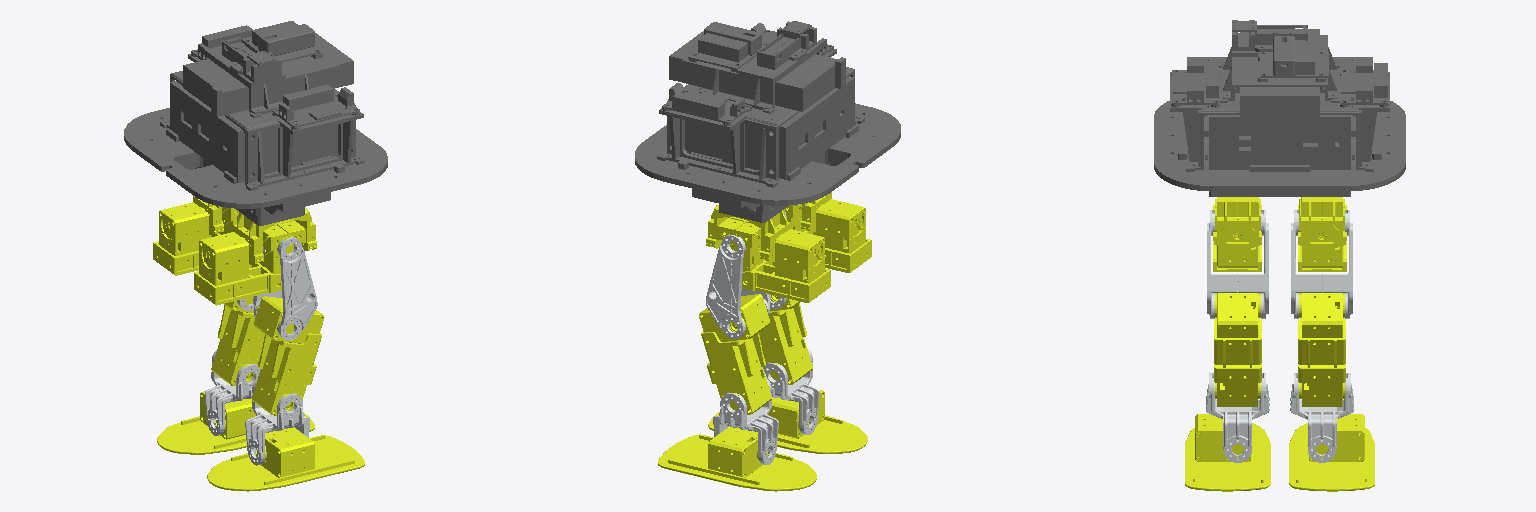
robot.urdf — exhx5_w_b_16:
<?xml version="1.0" encoding="utf-8"?>
<!-- This URDF was automatically created by SolidWorks to URDF Exporter! Originally created by [author] ([email redacted]) 
     Commit Version: 1.5.1-0-g916b5db  Build Version: 1.5.7152.31018
     For more information, please see http://wiki.ros.org/sw_urdf_exporter -->
<robot
  name="exhx5_w_b_16">
  <link
    name="body_link">
    <inertial>
      <origin
        xyz="0.00043545 0.00025536 0.10071"
        rpy="0 0 0" />
      <mass
        value="1.8238" />
      <inertia
        ixx="0.0025905"
        ixy="-5.6852E-06"
        ixz="-1.3106E-05"
        iyy="0.0024595"
        iyz="-1.261E-06"
        izz="0.0046407" />
    </inertial>
    <visual>
      <origin
        xyz="0 0 0"
        rpy="0 0 0" />
      <geometry>
        <mesh
          filename="../meshes/body_link.STL" />
      </geometry>
      <material
        name="">
        <color
          rgba="0.49804 0.49804 0.49804 1" />
      </material>
    </visual>
    <collision>
      <origin
        xyz="0 0 0"
        rpy="0 0 0" />
      <geometry>
        <mesh
          filename="../meshes/body_link.STL" />
      </geometry>
    </collision>
  </link>

  <link
    name="imu_link">
    <inertial>
      <origin
        xyz="-0.008387 1.336E-17 -0.0069463"
        rpy="0 0 0" />
      <mass
        value="0.0062931" />
      <inertia
        ixx="3.2242E-07"
        ixy="3.3527E-22"
        ixz="-6.9193E-08"
        iyy="9.2229E-07"
        iyz="-8.0392E-22"
        izz="1.1018E-06" />
    </inertial>
    <visual>
      <origin
        xyz="0 0 0"
        rpy="0 0 0" />
      <geometry>
        <mesh
          filename="../meshes/imu_link.STL" />
      </geometry>
      <material
        name="">
        <color
          rgba="0.79216 0.81961 0.93333 1" />
      </material>
    </visual>
    <collision>
      <origin
        xyz="0 0 0"
        rpy="0 0 0" />
      <geometry>
        <mesh
          filename="../meshes/imu_link.STL" />
      </geometry>
    </collision>
  </link>
  <joint
    name="imu"
    type="fixed">
    <origin
      xyz="0 0 0.0492"
      rpy="0 0 0" />
    <parent
      link="body_link" />
    <child
      link="imu_link" />
    <axis
      xyz="0 0 0" />
    <limit
      lower="-3.14"
      upper="3.14"
      effort="4"
      velocity="4" />
  </joint>
  <link
    name="l_hip_g_link">
    <inertial>
      <origin
        xyz="-0.0043797 -8.6604E-08 0.011813"
        rpy="0 0 0" />
      <mass
        value="0.061008" />
      <inertia
        ixx="1.167E-05"
        ixy="7.1767E-11"
        ixz="9.1442E-09"
        iyy="2.2342E-05"
        iyz="2.5177E-11"
        izz="2.4892E-05" />
    </inertial>
    <visual>
      <origin
        xyz="0 0 0"
        rpy="0 0 0" />
      <geometry>
        <mesh
          filename="../meshes/l_hip_g_link.STL" />
      </geometry>
      <material
        name="">
        <color
          rgba="0.9451 1 0.18431 1" />
      </material>
    </visual>
    <collision>
      <origin
        xyz="0 0 0"
        rpy="0 0 0" />
      <geometry>
        <mesh
          filename="../meshes/l_hip_g_link.STL" />
      </geometry>
    </collision>
  </link>
  <joint
    name="l_hip_g"
    type="fixed">
    <origin
      xyz="-.003 .035 0"
      rpy="0 0 0" />
    <parent
      link="body_link" />
    <child
      link="l_hip_g_link" />
    <axis
      xyz="0 0 0" />
  </joint>
  <link
    name="l_hip_roll_link">
    <inertial>
      <origin
        xyz="0.013831 0.00033457 0.025453"
        rpy="0 0 0" />
      <mass
        value="0.2969" />
      <inertia
        ixx="7.8136E-05"
        ixy="7.265E-07"
        ixz="-6.9809E-08"
        iyy="9.2183E-05"
        iyz="-5.6881E-11"
        izz="7.1034E-05" />
    </inertial>
    <visual>
      <origin
        xyz="0 0 0"
        rpy="0 0 0" />
      <geometry>
        <mesh
          filename="../meshes/l_hip_roll_link.STL" />
      </geometry>
      <material
        name="">
        <color
          rgba="0.9451 1 0.18431 1" />
      </material>
    </visual>
    <collision>
      <origin
        xyz="0 0 0"
        rpy="0 0 0" />
      <geometry>
        <mesh
          filename="../meshes/l_hip_roll_link.STL" />
      </geometry>
    </collision>
  </link>
  <joint
    name="l_hip_roll"
    type="revolute">
    <origin
      xyz="0 0 0"
      rpy="3.1416 1.5708 0" />
    <parent
      link="l_hip_g_link" />
    <child
      link="l_hip_roll_link" />
    <axis
      xyz="0 0 1" />
    <limit
      lower="-3.14"
      upper="3.14"
      effort="4"
      velocity="4" />
  </joint>
  <link
    name="l_hip_pitch_link">
    <inertial>
      <origin
        xyz="0.041225 -0.007321 -5.0713E-08"
        rpy="0 0 0" />
      <mass
        value="0.051592" />
      <inertia
        ixx="2.7959E-05"
        ixy="2.0752E-06"
        ixz="-8.0934E-11"
        iyy="4.8156E-05"
        iyz="3.6317E-11"
        izz="2.9604E-05" />
    </inertial>
    <visual>
      <origin
        xyz="0 0 0"
        rpy="0 0 0" />
      <geometry>
        <mesh
          filename="../meshes/l_hip_pitch_link.STL" />
      </geometry>
      <material
        name="">
        <color
          rgba="0.89804 0.91765 0.92941 1" />
      </material>
    </visual>
    <collision>
      <origin
        xyz="0 0 0"
        rpy="0 0 0" />
      <geometry>
        <mesh
          filename="../meshes/l_hip_pitch_link.STL" />
      </geometry>
    </collision>
  </link>
  <joint
    name="l_hip_pitch"
    type="revolute">
    <origin
      xyz="0 0 0"
      rpy="1.5708 0 0" />
    <parent
      link="l_hip_roll_link" />
    <child
      link="l_hip_pitch_link" />
    <axis
      xyz="0 0 1" />
    <limit
      lower="-3.14"
      upper="3.14"
      effort="4"
      velocity="4" />
  </joint>
  <link
    name="l_knee_link">
    <inertial>
      <origin
        xyz="0.033756 -0.0084189 -6.6115E-09"
        rpy="0 0 0" />
      <mass
        value="0.28878" />
      <inertia
        ixx="6.6724E-05"
        ixy="7.5004E-07"
        ixz="-8.4578E-07"
        iyy="6.5699E-05"
        iyz="4.1085E-07"
        izz="7.0381E-05" />
    </inertial>
    <visual>
      <origin
        xyz="0 0 0"
        rpy="0 0 0" />
      <geometry>
        <mesh
          filename="../meshes/l_knee_link.STL" />
      </geometry>
      <material
        name="">
        <color
          rgba="0.9451 1 0.18431 1" />
      </material>
    </visual>
    <collision>
      <origin
        xyz="0 0 0"
        rpy="0 0 0" />
      <geometry>
        <mesh
          filename="../meshes/l_knee_link.STL" />
      </geometry>
    </collision>
  </link>
  <joint
    name="l_knee"
    type="revolute">
    <origin
      xyz="0.075954 0 0"
      rpy="0 0 0" />
    <parent
      link="l_hip_pitch_link" />
    <child
      link="l_knee_link" />
    <axis
      xyz="0 0 1" />
    <limit
      lower="-3.14"
      upper="3.14"
      effort="4"
      velocity="4" />
  </joint>
  <link
    name="l_ank_pitch_link">
    <inertial>
      <origin
        xyz="0.022786 -7.3909E-09 -7.1981E-06"
        rpy="0 0 0" />
      <mass
        value="0.044772" />
      <inertia
        ixx="1.777E-05"
        ixy="8.555E-14"
        ixz="-3.3713E-09"
        iyy="1.7119E-05"
        iyz="1.7593E-11"
        izz="1.8661E-05" />
    </inertial>
    <visual>
      <origin
        xyz="0 0 0"
        rpy="0 0 0" />
      <geometry>
        <mesh
          filename="../meshes/l_ank_pitch_link.STL" />
      </geometry>
      <material
        name="">
        <color
          rgba="0.89804 0.91765 0.92941 1" />
      </material>
    </visual>
    <collision>
      <origin
        xyz="0 0 0"
        rpy="0 0 0" />
      <geometry>
        <mesh
          filename="../meshes/l_ank_pitch_link.STL" />
      </geometry>
    </collision>
  </link>
  <joint
    name="l_ank_pitch"
    type="revolute">
    <origin
      xyz="0.074602 0 0"
      rpy="3.1416 0 0" />
    <parent
      link="l_knee_link" />
    <child
      link="l_ank_pitch_link" />
    <axis
      xyz="0 0 1" />
    <limit
      lower="-3.14"
      upper="3.14"
      effort="4"
      velocity="4" />
  </joint>
  <link
    name="l_ank_roll_link">
    <inertial>
      <origin
        xyz="0.0047069 0.010728 0.0015299"
        rpy="0 0 0" />
      <mass
        value="0.16774" />
      <inertia
        ixx="0.00012039"
        ixy="-3.7428E-09"
        ixz="4.4069E-08"
        iyy="8.7735E-05"
        iyz="7.0469E-07"
        izz="4.7866E-05" />
    </inertial>
    <visual>
      <origin
        xyz="0 0 0"
        rpy="0 0 0" />
      <geometry>
        <mesh
          filename="../meshes/l_ank_roll_link.STL" />
      </geometry>
      <material
        name="">
        <color
          rgba="0.9451 1 0.18431 1" />
      </material>
    </visual>
    <collision>
      <origin
        xyz="0 0 0"
        rpy="0 0 0" />
      <geometry>
        <mesh
          filename="../meshes/l_ank_roll_link.STL" />
      </geometry>
    </collision>
  </link>
  <joint
    name="l_ank_roll"
    type="revolute">
    <origin
      xyz="0.0465 0 0"
      rpy="-1.5708 0 0" />
    <parent
      link="l_ank_pitch_link" />
    <child
      link="l_ank_roll_link" />
    <axis
      xyz="0 0 1" />
    <limit
      lower="-3.14"
      upper="3.14"
      effort="4"
      velocity="4" />
  </joint>
  <link
    name="r_hip_g_link">
    <inertial>
      <origin
        xyz="-0.0043797 -8.6604E-08 0.011813"
        rpy="0 0 0" />
      <mass
        value="0.061008" />
      <inertia
        ixx="1.167E-05"
        ixy="7.1767E-11"
        ixz="9.1442E-09"
        iyy="2.2342E-05"
        iyz="2.5177E-11"
        izz="2.4892E-05" />
    </inertial>
    <visual>
      <origin
        xyz="0 0 0"
        rpy="0 0 0" />
      <geometry>
        <mesh
          filename="../meshes/r_hip_g_link.STL" />
      </geometry>
      <material
        name="">
        <color
          rgba="0.9451 1 0.18431 1" />
      </material>
    </visual>
    <collision>
      <origin
        xyz="0 0 0"
        rpy="0 0 0" />
      <geometry>
        <mesh
          filename="../meshes/r_hip_g_link.STL" />
      </geometry>
    </collision>
  </link>
  <joint
    name="r_hip_g"
    type="fixed">
    <origin
      xyz="-.003 -.035 0"
      rpy="0 0 0" />
    <parent
      link="body_link" />
    <child
      link="r_hip_g_link" />
    <axis
      xyz="0 0 0" />
  </joint>
  <link
    name="r_hip_roll_link">
    <inertial>
      <origin
        xyz="0.013831 0.00033457 0.025453"
        rpy="0 0 0" />
      <mass
        value="0.2969" />
      <inertia
        ixx="7.8136E-05"
        ixy="7.265E-07"
        ixz="-6.9809E-08"
        iyy="9.2183E-05"
        iyz="-5.6881E-11"
        izz="7.1034E-05" />
    </inertial>
    <visual>
      <origin
        xyz="0 0 0"
        rpy="0 0 0" />
      <geometry>
        <mesh
          filename="../meshes/r_hip_roll_link.STL" />
      </geometry>
      <material
        name="">
        <color
          rgba="0.9451 1 0.18431 1" />
      </material>
    </visual>
    <collision>
      <origin
        xyz="0 0 0"
        rpy="0 0 0" />
      <geometry>
        <mesh
          filename="../meshes/r_hip_roll_link.STL" />
      </geometry>
    </collision>
  </link>
  <joint
    name="r_hip_roll"
    type="revolute">
    <origin
      xyz="0 0 0"
      rpy="3.1416 1.5708 0" />
    <parent
      link="r_hip_g_link" />
    <child
      link="r_hip_roll_link" />
    <axis
      xyz="0 0 1" />
    <limit
      lower="-3.14"
      upper="3.14"
      effort="4"
      velocity="4" />
  </joint>
  <link
    name="r_hip_pitch_link">
    <inertial>
      <origin
        xyz="0.041225 0.007321 5.0713E-08"
        rpy="0 0 0" />
      <mass
        value="0.051592" />
      <inertia
        ixx="2.7959E-05"
        ixy="-2.0752E-06"
        ixz="8.0934E-11"
        iyy="4.8156E-05"
        iyz="3.6317E-11"
        izz="2.9604E-05" />
    </inertial>
    <visual>
      <origin
        xyz="0 0 0"
        rpy="0 0 0" />
      <geometry>
        <mesh
          filename="../meshes/r_hip_pitch_link.STL" />
      </geometry>
      <material
        name="">
        <color
          rgba="0.89804 0.91765 0.92941 1" />
      </material>
    </visual>
    <collision>
      <origin
        xyz="0 0 0"
        rpy="0 0 0" />
      <geometry>
        <mesh
          filename="../meshes/r_hip_pitch_link.STL" />
      </geometry>
    </collision>
  </link>
  <joint
    name="r_hip_pitch"
    type="revolute">
    <origin
      xyz="0 0 0"
      rpy="-1.5708 0 0" />
    <parent
      link="r_hip_roll_link" />
    <child
      link="r_hip_pitch_link" />
    <axis
      xyz="0 0 1" />
    <limit
      lower="-3.14"
      upper="3.14"
      effort="4"
      velocity="4" />
  </joint>
  <link
    name="r_knee_link">
    <inertial>
      <origin
        xyz="0.033757 0.0084176 6.6115E-09"
        rpy="0 0 0" />
      <mass
        value="0.28878" />
      <inertia
        ixx="6.6724E-05"
        ixy="-7.5008E-07"
        ixz="8.458E-07"
        iyy="6.5699E-05"
        iyz="4.1081E-07"
        izz="7.0381E-05" />
    </inertial>
    <visual>
      <origin
        xyz="0 0 0"
        rpy="0 0 0" />
      <geometry>
        <mesh
          filename="../meshes/r_knee_link.STL" />
      </geometry>
      <material
        name="">
        <color
          rgba="0.9451 1 0.18431 1" />
      </material>
    </visual>
    <collision>
      <origin
        xyz="0 0 0"
        rpy="0 0 0" />
      <geometry>
        <mesh
          filename="../meshes/r_knee_link.STL" />
      </geometry>
    </collision>
  </link>
  <joint
    name="r_knee"
    type="revolute">
    <origin
      xyz="0.075954 0 0"
      rpy="0 0 0" />
    <parent
      link="r_hip_pitch_link" />
    <child
      link="r_knee_link" />
    <axis
      xyz="0 0 1" />
    <limit
      lower="-3.14"
      upper="3.14"
      effort="4"
      velocity="4" />
  </joint>
  <link
    name="r_ank_pitch_link">
    <inertial>
      <origin
        xyz="0.025786 -7.3887E-09 -7.1981E-06"
        rpy="0 0 0" />
      <mass
        value="0.044772" />
      <inertia
        ixx="1.777E-05"
        ixy="8.5434E-14"
        ixz="-3.3713E-09"
        iyy="1.7119E-05"
        iyz="1.7592E-11"
        izz="1.8661E-05" />
    </inertial>
    <visual>
      <origin
        xyz="0 0 0"
        rpy="0 0 0" />
      <geometry>
        <mesh
          filename="../meshes/r_ank_pitch_link.STL" />
      </geometry>
      <material
        name="">
        <color
          rgba="0.89804 0.91765 0.92941 1" />
      </material>
    </visual>
    <collision>
      <origin
        xyz="0 0 0"
        rpy="0 0 0" />
      <geometry>
        <mesh
          filename="../meshes/r_ank_pitch_link.STL" />
      </geometry>
    </collision>
  </link>
  <joint
    name="r_ank_pitch"
    type="revolute">
    <origin
      xyz="0.071602 0 0"
      rpy="3.1416 0 0" />
    <parent
      link="r_knee_link" />
    <child
      link="r_ank_pitch_link" />
    <axis
      xyz="0 0 1" />
    <limit
      lower="-3.14"
      upper="3.14"
      effort="4"
      velocity="4" />
  </joint>
  <link
    name="r_ank_roll_link">
    <inertial>
      <origin
        xyz="0.0077069 -0.010728 0.0015299"
        rpy="0 0 0" />
      <mass
        value="0.16774" />
      <inertia
        ixx="0.00012039"
        ixy="3.743E-09"
        ixz="4.407E-08"
        iyy="8.7735E-05"
        iyz="-7.0467E-07"
        izz="4.7866E-05" />
    </inertial>
    <visual>
      <origin
        xyz="0 0 0"
        rpy="0 0 0" />
      <geometry>
        <mesh
          filename="../meshes/r_ank_roll_link.STL" />
      </geometry>
      <material
        name="">
        <color
          rgba="0.9451 1 0.18431 1" />
      </material>
    </visual>
    <collision>
      <origin
        xyz="0 0 0"
        rpy="0 0 0" />
      <geometry>
        <mesh
          filename="../meshes/r_ank_roll_link.STL" />
      </geometry>
    </collision>
  </link>
  <joint
    name="r_ank_roll"
    type="revolute">
    <origin
      xyz="0.0465 0 0"
      rpy="1.5708 0 0" />
    <parent
      link="r_ank_pitch_link" />
    <child
      link="r_ank_roll_link" />
    <axis
      xyz="0 0 1" />
    <limit
      lower="-3.14"
      upper="3.14"
      effort="4"
      velocity="4" />
  </joint>
  <transmission name="r_hip_roll_tran">
    <type>transmission_interface/SimpleTransmission</type>
    <joint name="r_hip_roll">
      <hardwareInterface>hardware_interface/EffortJointInterface</hardwareInterface>
    </joint>
    <actuator name="r_hip_roll_motor">
      <hardwareInterface>hardware_interface/EffortJointInterface</hardwareInterface>
      <mechanicalReduction>1</mechanicalReduction>
    </actuator>
  </transmission>
  <transmission name="r_hip_pitch_tran">
    <type>transmission_interface/SimpleTransmission</type>
    <joint name="r_hip_pitch">
      <hardwareInterface>hardware_interface/EffortJointInterface</hardwareInterface>
    </joint>
    <actuator name="r_hip_pitch_motor">
      <hardwareInterface>hardware_interface/EffortJointInterface</hardwareInterface>
      <mechanicalReduction>1</mechanicalReduction>
    </actuator>
  </transmission>
  <transmission name="r_knee_tran">
    <type>transmission_interface/SimpleTransmission</type>
    <joint name="r_knee">
      <hardwareInterface>hardware_interface/EffortJointInterface</hardwareInterface>
    </joint>
    <actuator name="r_knee_motor">
      <hardwareInterface>hardware_interface/EffortJointInterface</hardwareInterface>
      <mechanicalReduction>1</mechanicalReduction>
    </actuator>
  </transmission>
  <transmission name="r_ank_pitch_tran">
    <type>transmission_interface/SimpleTransmission</type>
    <joint name="r_ank_pitch">
      <hardwareInterface>hardware_interface/EffortJointInterface</hardwareInterface>
    </joint>
    <actuator name="r_ank_pitch_motor">
      <hardwareInterface>hardware_interface/EffortJointInterface</hardwareInterface>
      <mechanicalReduction>1</mechanicalReduction>
    </actuator>
  </transmission>
  <transmission name="r_ank_roll_tran">
    <type>transmission_interface/SimpleTransmission</type>
    <joint name="r_ank_roll">
      <hardwareInterface>hardware_interface/EffortJointInterface</hardwareInterface>
    </joint>
    <actuator name="r_ank_roll_motor">
      <hardwareInterface>hardware_interface/EffortJointInterface</hardwareInterface>
      <mechanicalReduction>1</mechanicalReduction>
    </actuator>
  </transmission>
  <transmission name="l_hip_roll_tran">
    <type>transmission_interface/SimpleTransmission</type>
    <joint name="l_hip_roll">
      <hardwareInterface>hardware_interface/EffortJointInterface</hardwareInterface>
    </joint>
    <actuator name="l_hip_roll_motor">
      <hardwareInterface>hardware_interface/EffortJointInterface</hardwareInterface>
      <mechanicalReduction>1</mechanicalReduction>
    </actuator>
  </transmission>
  <transmission name="l_hip_pitch_tran">
    <type>transmission_interface/SimpleTransmission</type>
    <joint name="l_hip_pitch">
      <hardwareInterface>hardware_interface/EffortJointInterface</hardwareInterface>
    </joint>
    <actuator name="l_hip_pitch_motor">
      <hardwareInterface>hardware_interface/EffortJointInterface</hardwareInterface>
      <mechanicalReduction>1</mechanicalReduction>
    </actuator>
  </transmission>
  <transmission name="l_knee_tran">
    <type>transmission_interface/SimpleTransmission</type>
    <joint name="l_knee">
      <hardwareInterface>hardware_interface/EffortJointInterface</hardwareInterface>
    </joint>
    <actuator name="l_knee_motor">
      <hardwareInterface>hardware_interface/EffortJointInterface</hardwareInterface>
      <mechanicalReduction>1</mechanicalReduction>
    </actuator>
  </transmission>
  <transmission name="l_ank_pitch_tran">
    <type>transmission_interface/SimpleTransmission</type>
    <joint name="l_ank_pitch">
      <hardwareInterface>hardware_interface/EffortJointInterface</hardwareInterface>
    </joint>
    <actuator name="l_ank_pitch_motor">
      <hardwareInterface>hardware_interface/EffortJointInterface</hardwareInterface>
      <mechanicalReduction>1</mechanicalReduction>
    </actuator>
  </transmission>
  <transmission name="l_ank_roll_tran">
    <type>transmission_interface/SimpleTransmission</type>
    <joint name="l_ank_roll">
      <hardwareInterface>hardware_interface/EffortJointInterface</hardwareInterface>
    </joint>
    <actuator name="l_ank_roll_motor">
      <hardwareInterface>hardware_interface/EffortJointInterface</hardwareInterface>
      <mechanicalReduction>1</mechanicalReduction>
    </actuator>
  </transmission>
</robot>

--- Render facts (derived) ---
3 views of the same robot in one strip: view 1: azimuth 30°, elevation 25°; view 2: azimuth 150°, elevation 25°; view 3: azimuth 270°, elevation 25° (orthographic).
Model exhx5_w_b_16 with 14 links and 13 joints (10 revolute, 3 fixed), rooted at body_link, posed every joint at zero.
Visible links, largest first — view 1: body_link, r_ank_roll_link, r_hip_roll_link, r_knee_link, l_hip_roll_link, l_ank_roll_link, r_hip_pitch_link, l_knee_link, r_ank_pitch_link, l_ank_pitch_link, r_hip_g_link; view 2: body_link, l_ank_roll_link, l_hip_roll_link, l_knee_link, r_hip_roll_link, r_ank_roll_link, l_hip_pitch_link, r_knee_link, l_ank_pitch_link, r_ank_pitch_link, l_hip_g_link, r_hip_g_link; view 3: body_link, l_knee_link, r_knee_link, r_ank_roll_link, l_ank_roll_link, l_ank_pitch_link, r_ank_pitch_link, l_hip_pitch_link, r_hip_pitch_link, l_hip_g_link, r_hip_g_link, l_hip_roll_link (+1 smaller).
Boxes of the visible links, box(x1,y1,x2,y2) form: body_link: box(124, 21, 387, 254); r_ank_roll_link: box(207, 427, 364, 491); r_hip_roll_link: box(194, 220, 305, 305); r_knee_link: box(252, 296, 324, 415); l_hip_roll_link: box(153, 202, 238, 275); l_ank_roll_link: box(157, 391, 314, 454); r_hip_pitch_link: box(253, 237, 317, 340); l_knee_link: box(211, 297, 264, 385); r_ank_pitch_link: box(245, 379, 309, 465); l_ank_pitch_link: box(205, 350, 260, 435); r_hip_g_link: box(233, 208, 316, 264); body_link: box(635, 21, 900, 222); l_ank_roll_link: box(658, 426, 816, 491); l_hip_roll_link: box(717, 217, 830, 302); l_knee_link: box(699, 294, 771, 414); r_hip_roll_link: box(785, 199, 871, 272); r_ank_roll_link: box(708, 390, 867, 453); l_hip_pitch_link: box(706, 234, 770, 338); r_knee_link: box(759, 294, 812, 384); l_ank_pitch_link: box(713, 377, 778, 464); r_ank_pitch_link: box(763, 348, 819, 434); l_hip_g_link: box(706, 205, 790, 261); r_hip_g_link: box(801, 192, 831, 231); body_link: box(1154, 20, 1405, 196); l_knee_link: box(1298, 293, 1345, 406); r_knee_link: box(1214, 293, 1261, 406); r_ank_roll_link: box(1185, 414, 1270, 491); l_ank_roll_link: box(1289, 414, 1374, 491); l_ank_pitch_link: box(1290, 373, 1353, 462); r_ank_pitch_link: box(1206, 373, 1269, 462); l_hip_pitch_link: box(1291, 210, 1352, 318); r_hip_pitch_link: box(1207, 210, 1268, 318); l_hip_g_link: box(1298, 197, 1346, 246); r_hip_g_link: box(1213, 197, 1261, 246); l_hip_roll_link: box(1298, 199, 1346, 271).
Size in the robot's own frame: 0.185 by 0.21 by 0.3893 metres.
Meshes: 14 distinct files referenced, 14 mesh visuals loaded (14 binary STL).